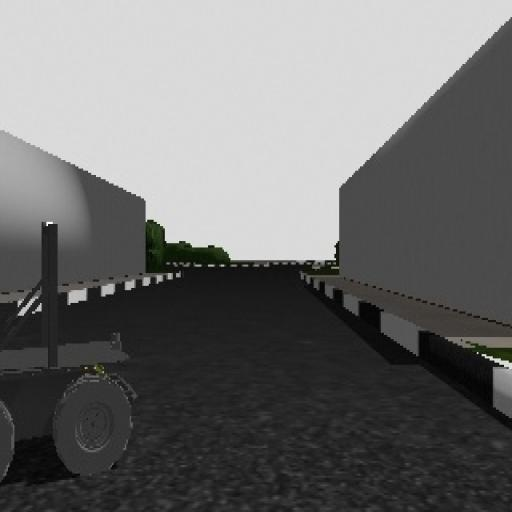huskya200: (0, 194, 153, 496)
